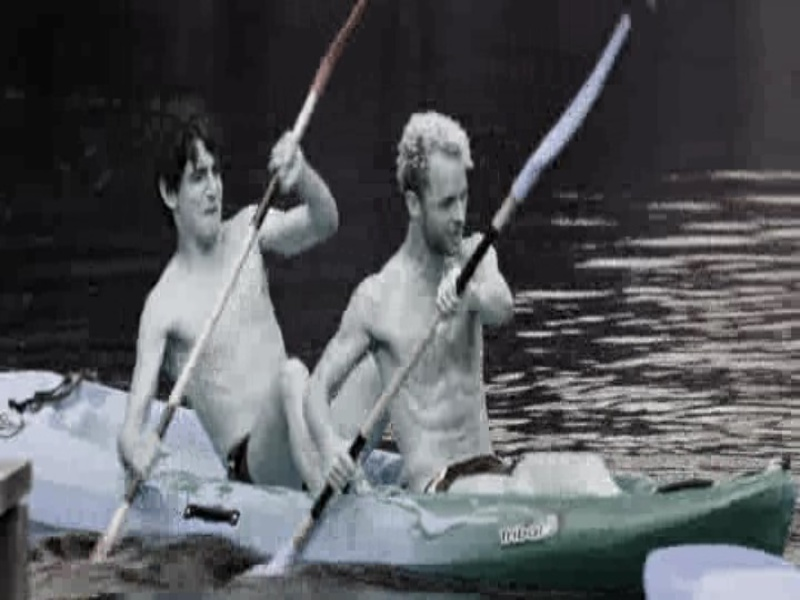TsisyArotava: (386, 109, 487, 264), (141, 108, 240, 245)
